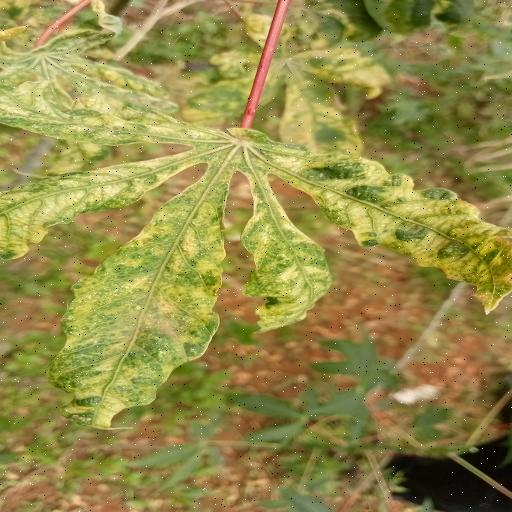Cassava_Mosaic: (0, 98, 512, 432)
